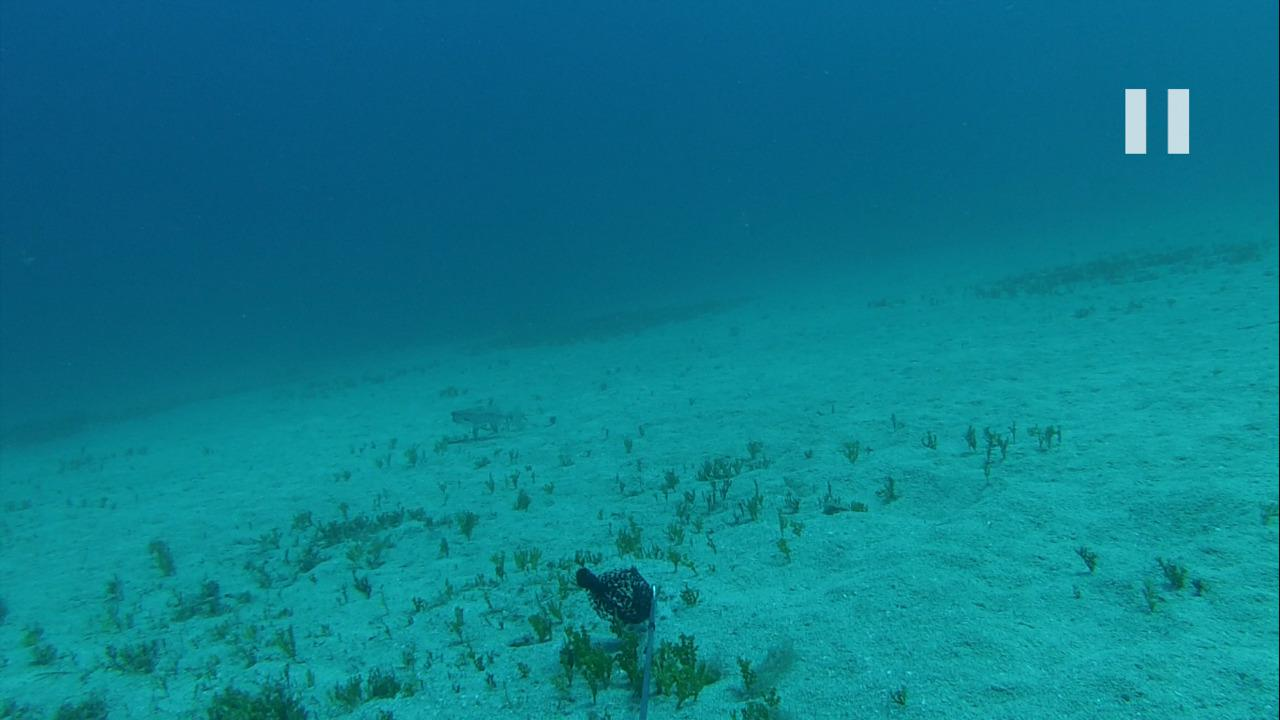dactylopterus: (426, 397, 533, 439)
